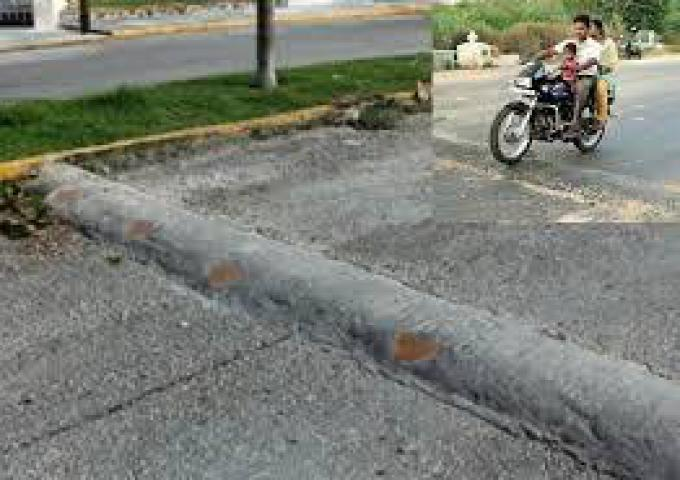Speed_Breaker: (0, 113, 680, 480), (5, 156, 679, 479), (371, 117, 679, 214)
